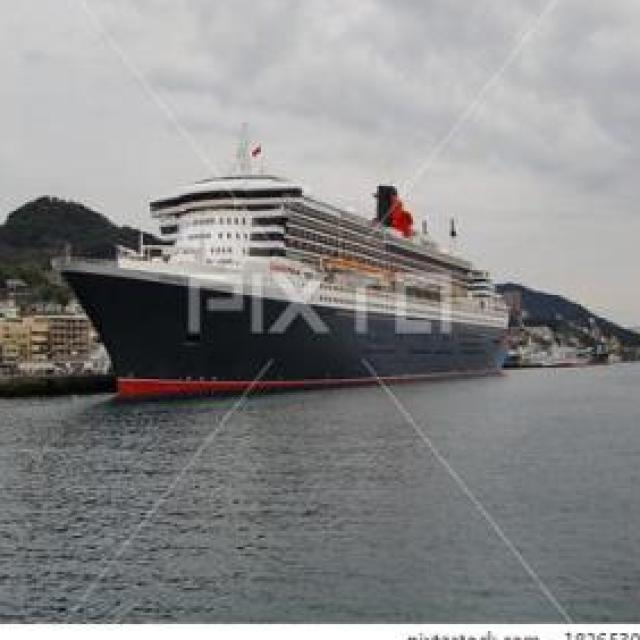passenger ship: (53, 157, 510, 388)
